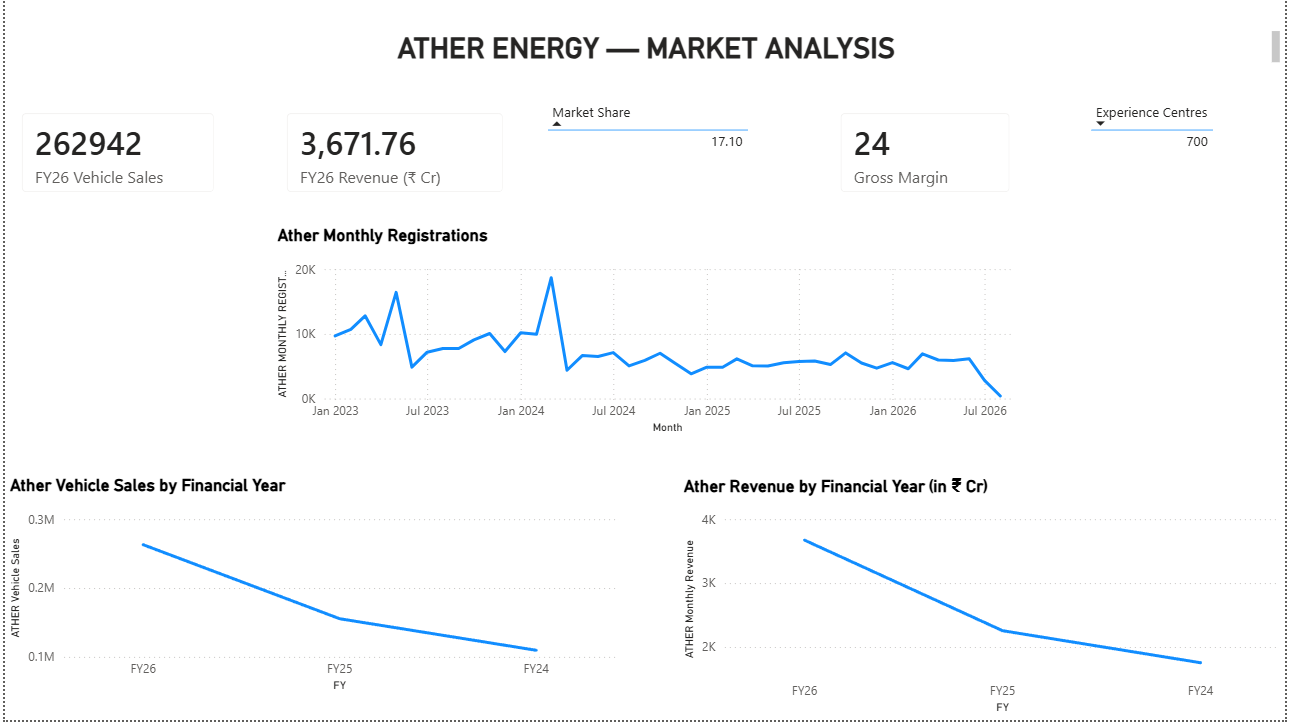

What the dashboard file says about the page in this screenshot:
{"tool":"powerbi","page":{"name":"Page 1","canvas":[1280,720],"ordinal":0},"visuals":[{"type":"cardVisual","fields":{"Data":["Sum(ather_financials.Vehicles_Sold)"]},"box":[0,96.7,226.7,113.3],"z":0},{"type":"cardVisual","fields":{"Data":["Sum(ather_financials.Revenue_Cr)"]},"box":[265,96.7,250,113.3],"z":1000},{"type":"tableEx","fields":{"Values":["Sum(ather_financials.Market_Share_pct)"]},"box":[536.7,96.7,218.9,112.5],"z":2000},{"type":"cardVisual","fields":{"Data":["Sum(ather_financials.Gross_Margin_pct)"]},"box":[818.8,96.2,203.8,113.8],"z":3000},{"type":"tableEx","fields":{"Values":["Sum(ather_financials.Experience_Centres)"]},"box":[1080,96.7,200,113.3],"z":4000},{"type":"lineChart","title":"Ather Monthly Registrations","fields":{"Y":["Sum(ather_registrations.Ather_Registrations)"],"Category":["ather_registrations.Month"]},"box":[267.5,225,755,213.3],"z":5000},{"type":"lineChart","title":"Ather Revenue by Financial Year (in  ₹ Cr)","fields":{"Category":["ather_financials.FY"],"Y":["Sum(ather_financials.Revenue_Cr)"]},"box":[673.8,475,606.2,243.8],"z":6000},{"type":"lineChart","title":"Ather Vehicle Sales by Financial Year","fields":{"Y":["Sum(ather_financials.Vehicles_Sold)"],"Category":["ather_financials.FY"]},"box":[0,475,615,221.7],"z":7000},{"type":"textbox","box":[10,26.7,1270,41.7],"z":8000}]}

Visuals, with their boxes in screenshot pixels (x1, y1, x2, y2), scaled from the page's 1280x720 canvas onto the 1290x722 screenshot:
cardVisual - Sum(ather_financials.Vehicles_Sold): bbox(0, 97, 228, 211)
cardVisual - Sum(ather_financials.Revenue_Cr): bbox(267, 97, 519, 211)
tableEx - Sum(ather_financials.Market_Share_pct): bbox(541, 97, 762, 210)
cardVisual - Sum(ather_financials.Gross_Margin_pct): bbox(825, 96, 1031, 211)
tableEx - Sum(ather_financials.Experience_Centres): bbox(1088, 97, 1289, 211)
"Ather Monthly Registrations" lineChart: bbox(270, 226, 1030, 440)
"Ather Revenue by Financial Year (in  ₹ Cr)" lineChart: bbox(679, 476, 1289, 721)
"Ather Vehicle Sales by Financial Year" lineChart: bbox(0, 476, 620, 699)
textbox: bbox(10, 27, 1289, 69)
